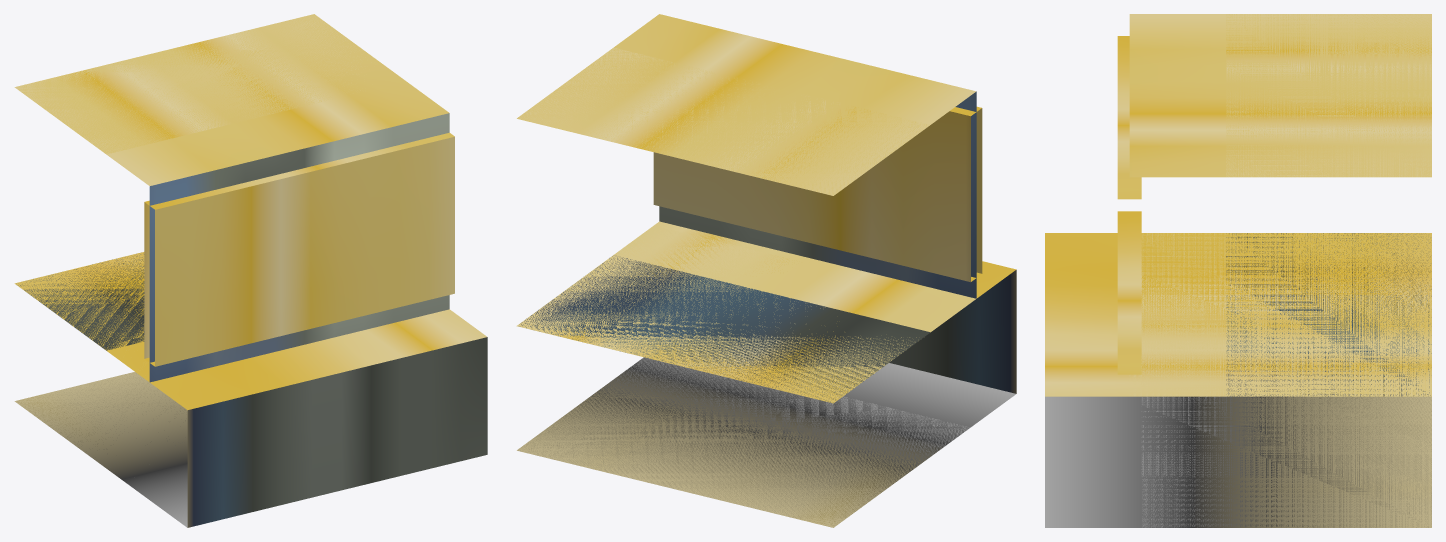
3 views of the same model, side by side, from view 1: azimuth 30°, elevation 25°; view 2: azimuth 150°, elevation 25°; view 3: azimuth 270°, elevation 25° (orthographic). The views are drawn at different scales.
Parts seen in each view (by area): view 1: frame; view 2: frame; view 3: frame.
Boxes of the visible parts, x1,y1,x2,y2 form: frame: [14, 14, 487, 527]; frame: [516, 14, 1016, 527]; frame: [1045, 14, 1431, 527].
Bounding box in the file's own units: 1 × 1 × 1.
